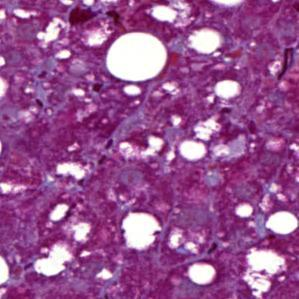steatosis: (108, 29, 167, 84)
